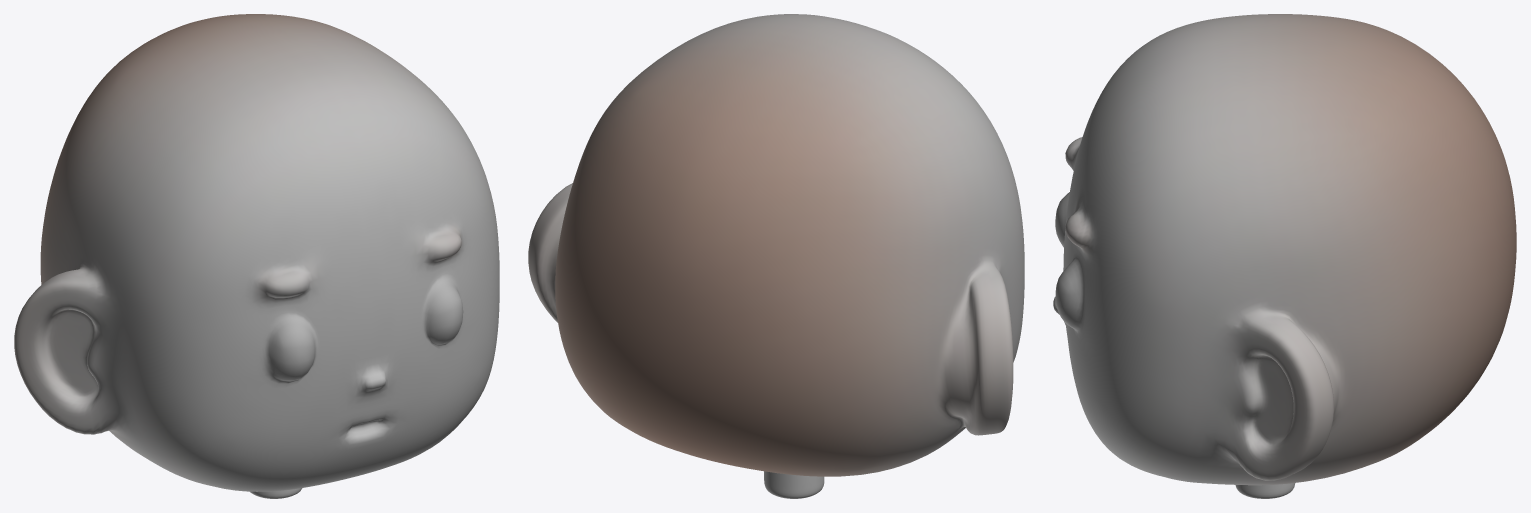
The model's file is cabeza.gltf.
The picture shows the model from 3 angles, left to right: view 1: azimuth 30°, elevation 25°; view 2: azimuth 150°, elevation 25°; view 3: azimuth 270°, elevation 25°; orthographic projection. The views are drawn at different scales.
Visible parts, largest first — view 1: cara; view 2: cara; view 3: cara.
Part boxes in pixels (x1,y1,x2,y2): cara: [14, 14, 499, 498]; cara: [528, 14, 1024, 498]; cara: [1053, 14, 1516, 498].
Size of the model in its own units: 4.03 by 3.58 by 3.34.
